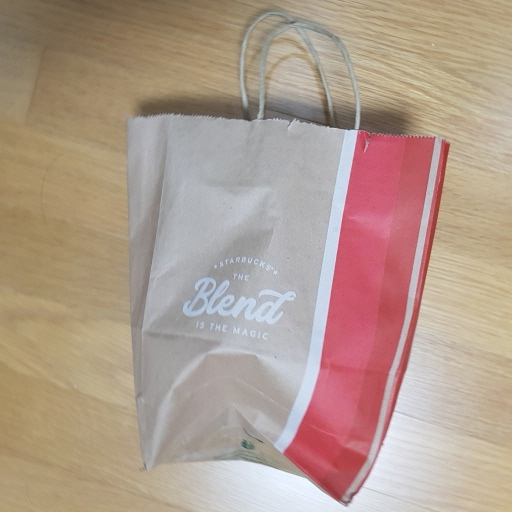Paper_0: (121, 113, 446, 511)
